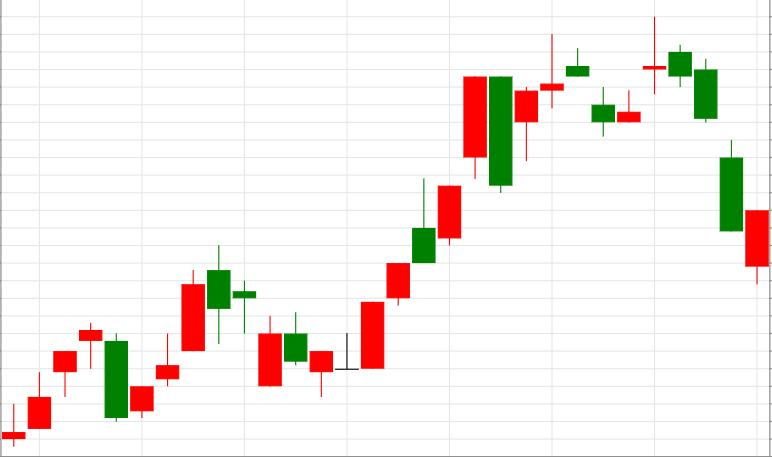bearish_engulfing_fall: (309, 76, 513, 397)
